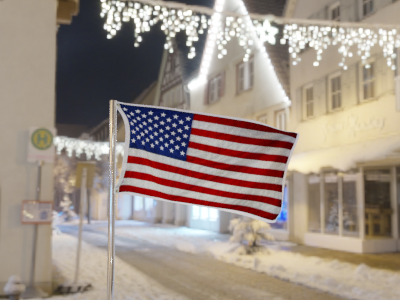America flag: (116, 101, 298, 221)
